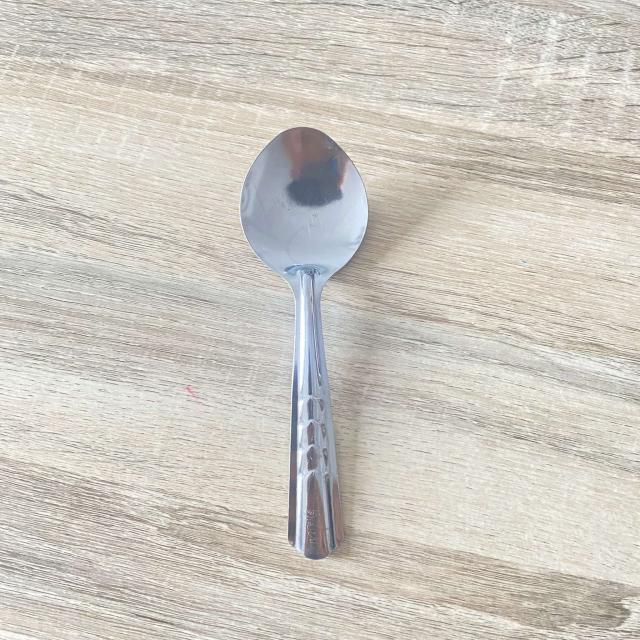spoon: (232, 122, 395, 564)
